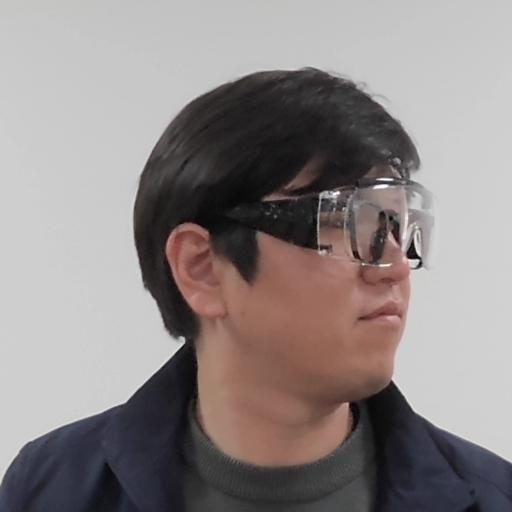glasses: (126, 60, 437, 405)
